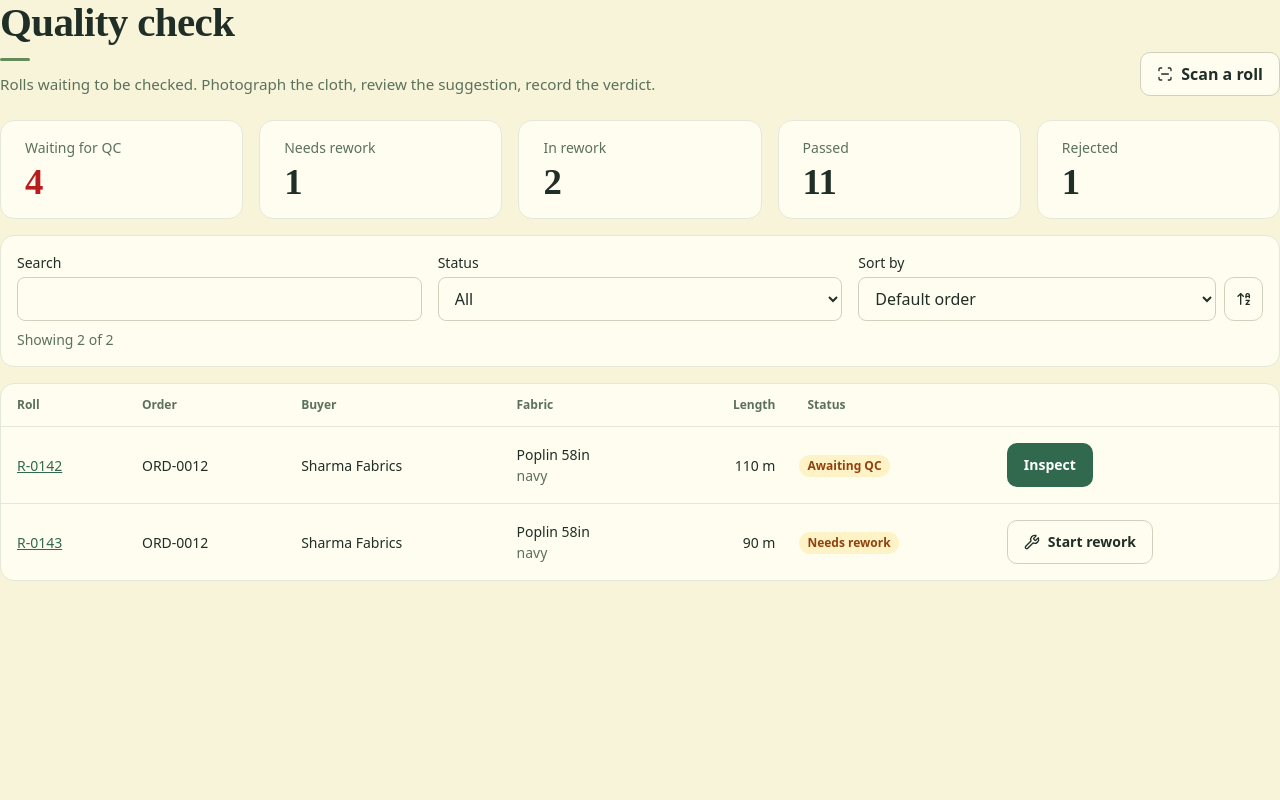
Test: QcQueue › shows the reason when rework cannot be started
Click the button "Start rework" at (1080, 542), box x1=1007 y1=520 x2=1153 y2=564
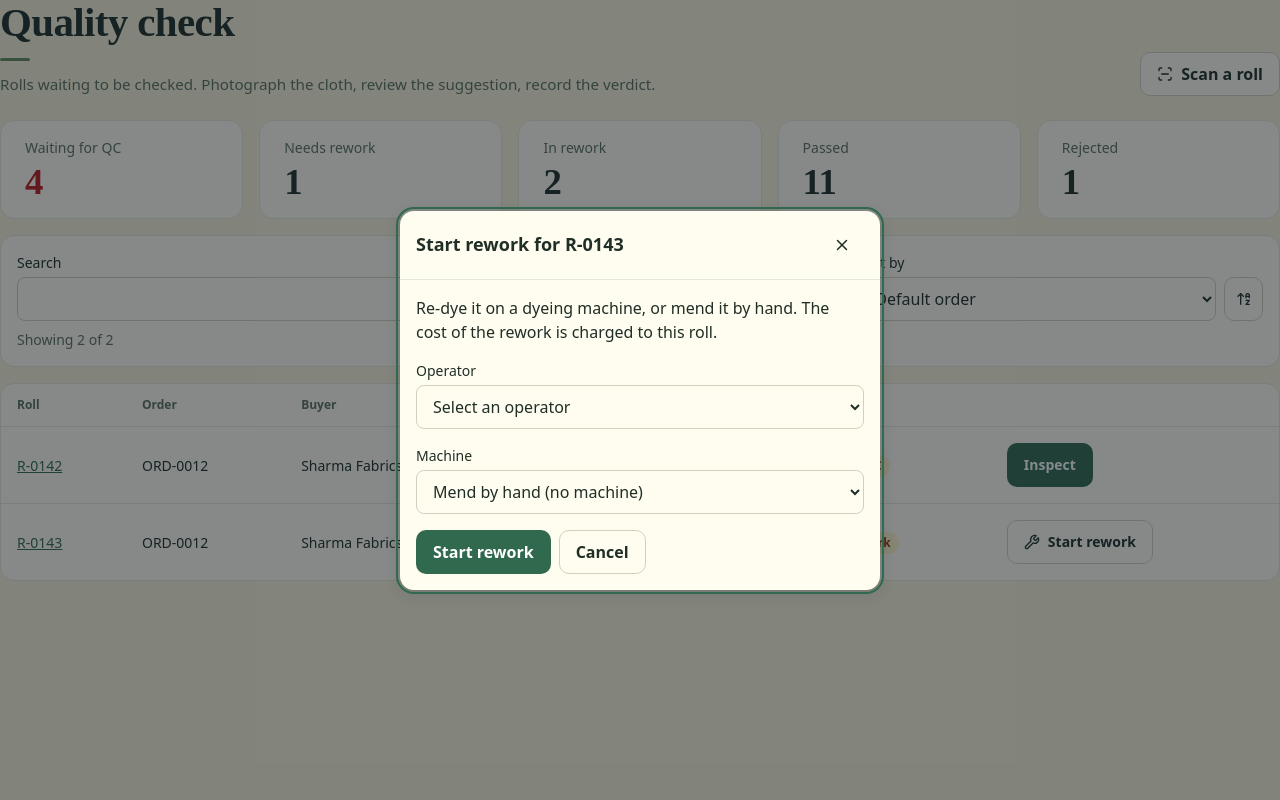
Select "Ravi Kumar" in the dropdown labelled "Operator" at (640, 406), box x1=416 y1=384 x2=864 y2=428
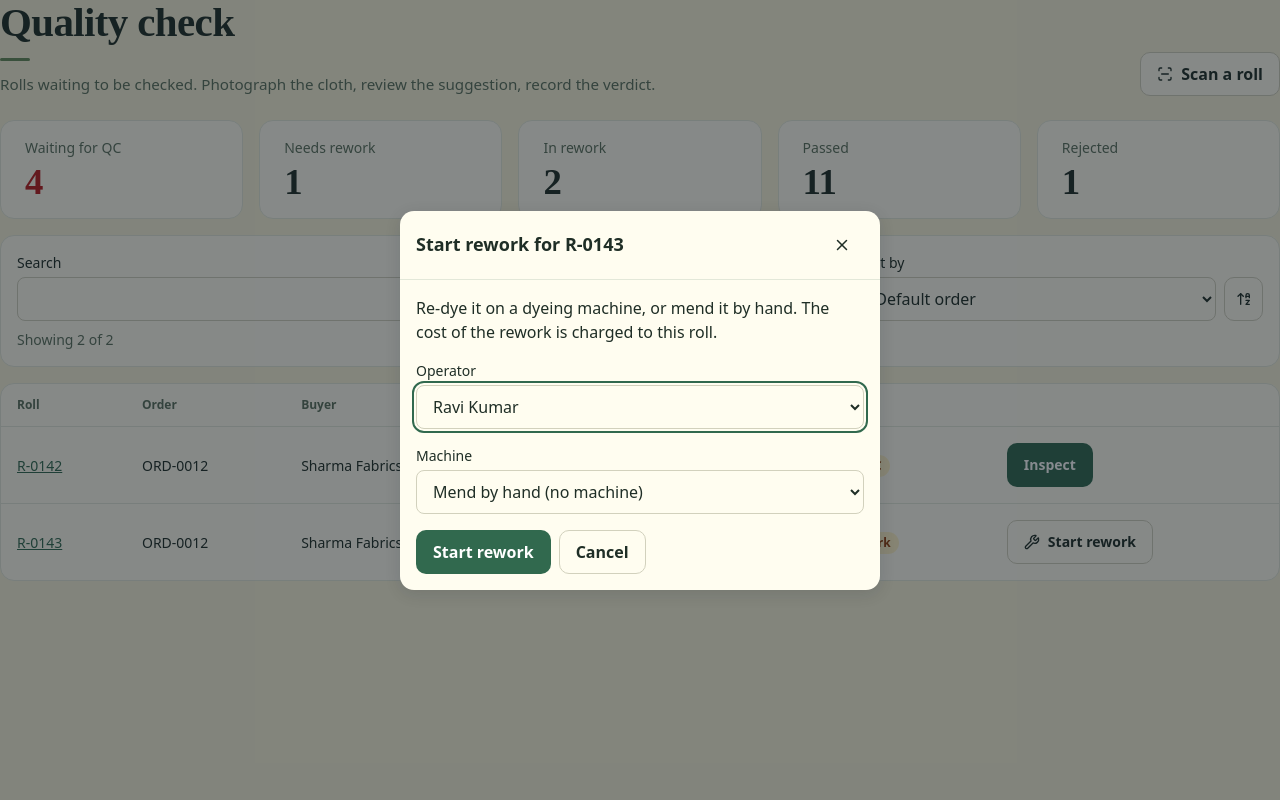
Click the button "Start rework" at (483, 552), box x1=416 y1=530 x2=551 y2=574
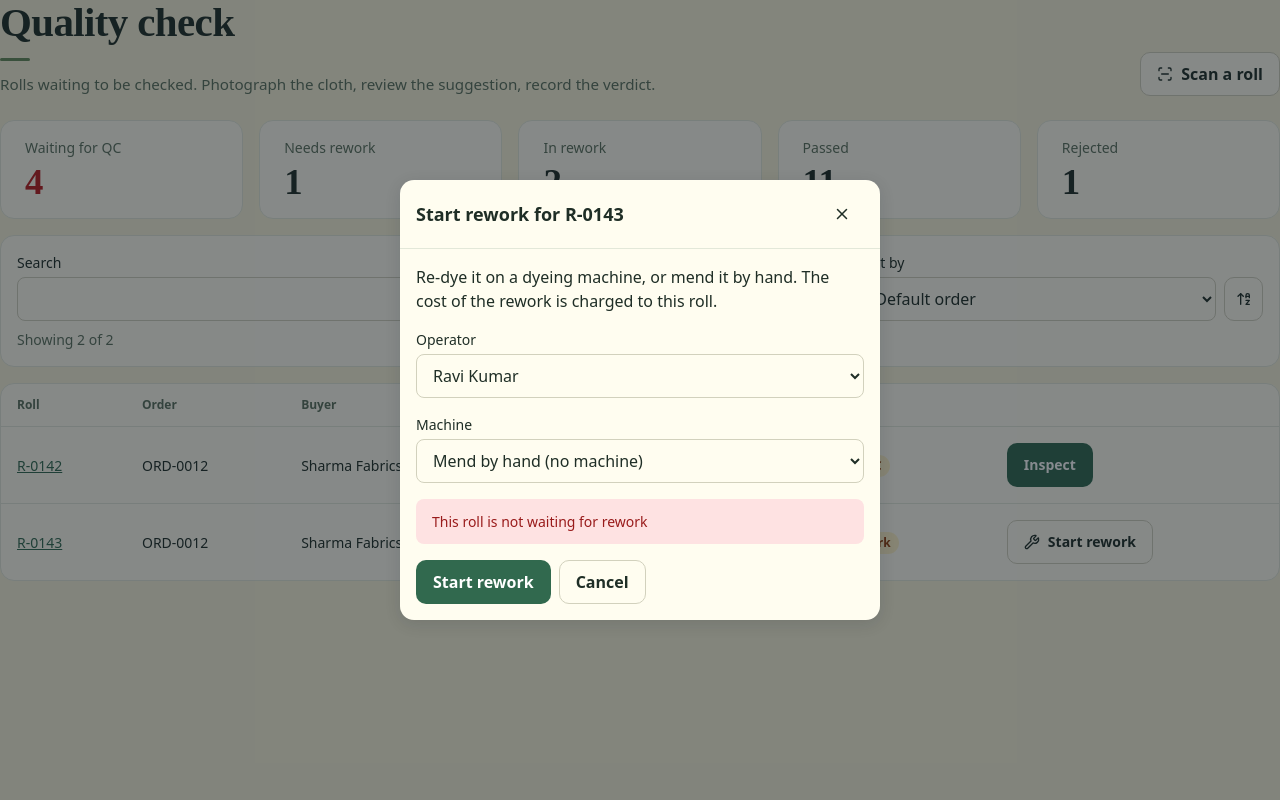
Now the message reads "This roll is not waiting for rework", box x1=432 y1=512 x2=648 y2=531
